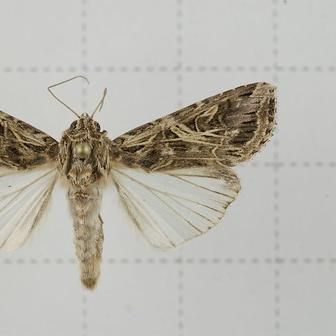Spodoptera litura: (1, 75, 278, 292)
